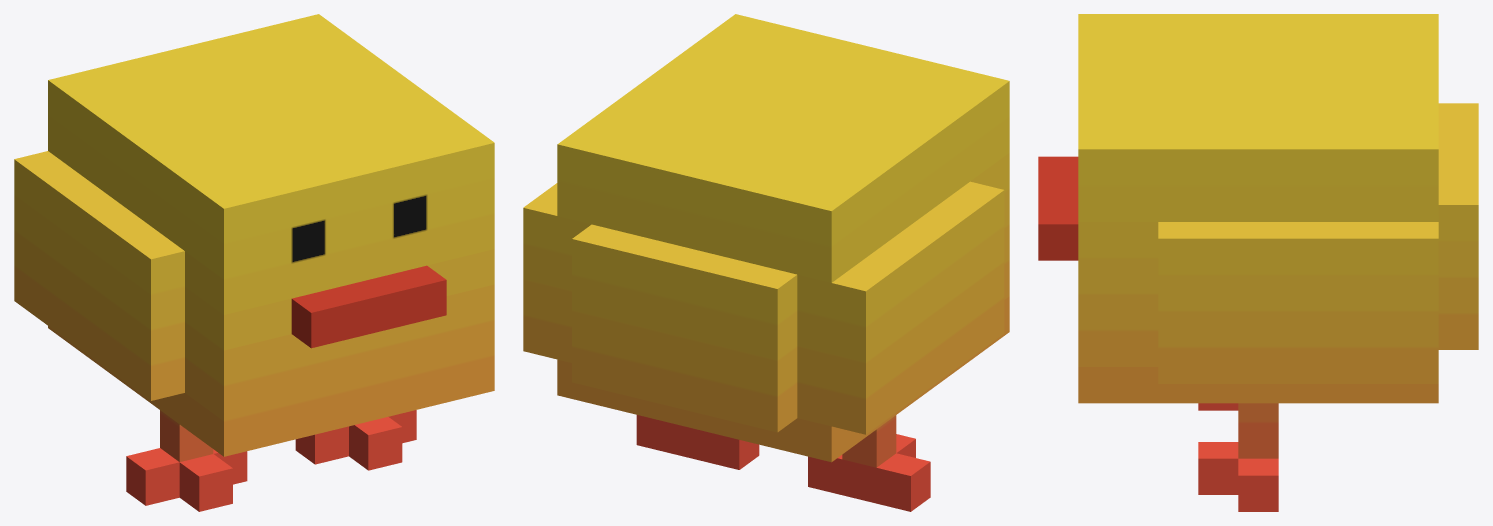
3 views of the same model, side by side, from view 1: azimuth 30°, elevation 25°; view 2: azimuth 150°, elevation 25°; view 3: azimuth 270°, elevation 25° (orthographic). The views are drawn at different scales.
Visible parts, largest first — view 1: cr017; view 2: cr017; view 3: cr017.
Part boxes in pixels (x1,y1,x2,y2): cr017: [14, 14, 494, 511]; cr017: [523, 14, 1009, 511]; cr017: [1038, 14, 1478, 511].
Size of the model in its own units: 10 by 10 by 11.
